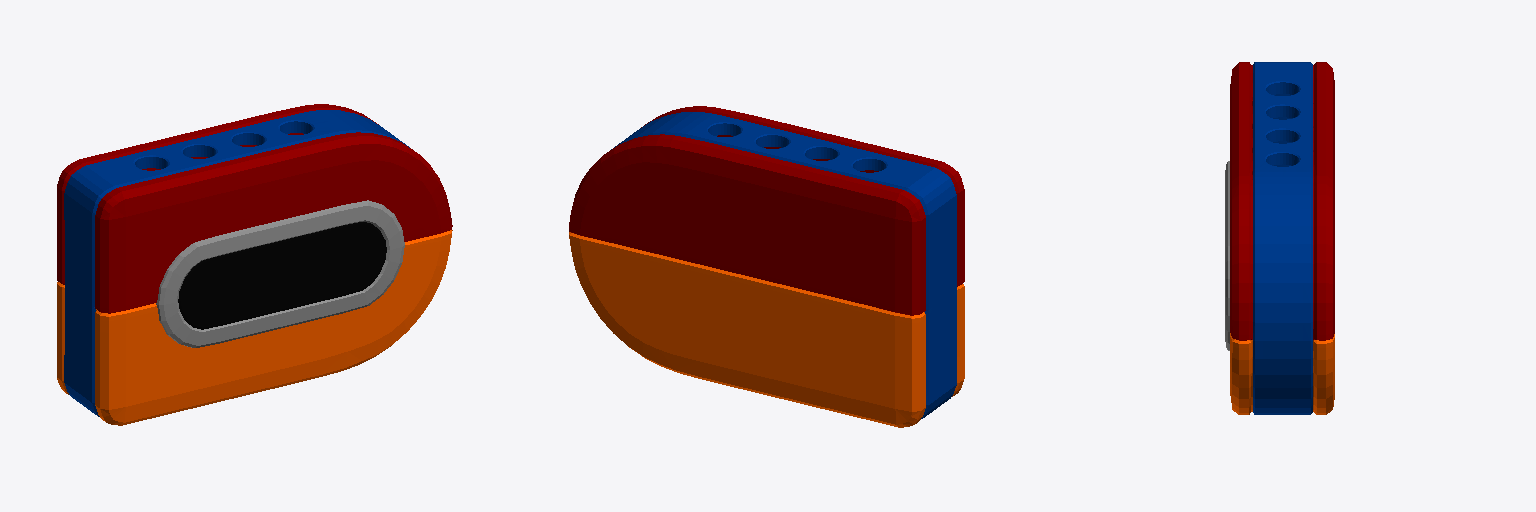
File: walkman.obj
3 renders of one model, left to right at view 1: azimuth 30°, elevation 25°; view 2: azimuth 150°, elevation 25°; view 3: azimuth 270°, elevation 25°, orthographic.
Parts seen in each view (by area): view 1: body_body; view 2: body_body; view 3: body_body.
Part boxes in pixels (bbox=[...]): body_body: bbox=[57, 104, 452, 425]; body_body: bbox=[569, 106, 964, 427]; body_body: bbox=[1225, 62, 1334, 414].
Bounding box in the file's own units: 5040 × 3200 × 1368.